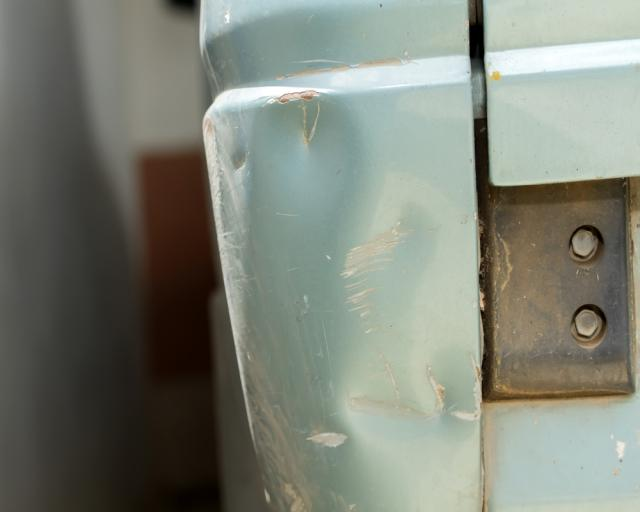dent: (234, 95, 473, 477)
